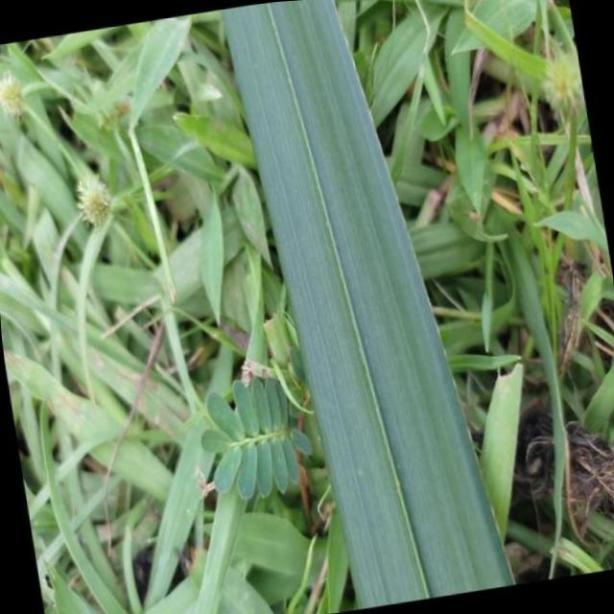Healthy: (221, 11, 513, 609)
